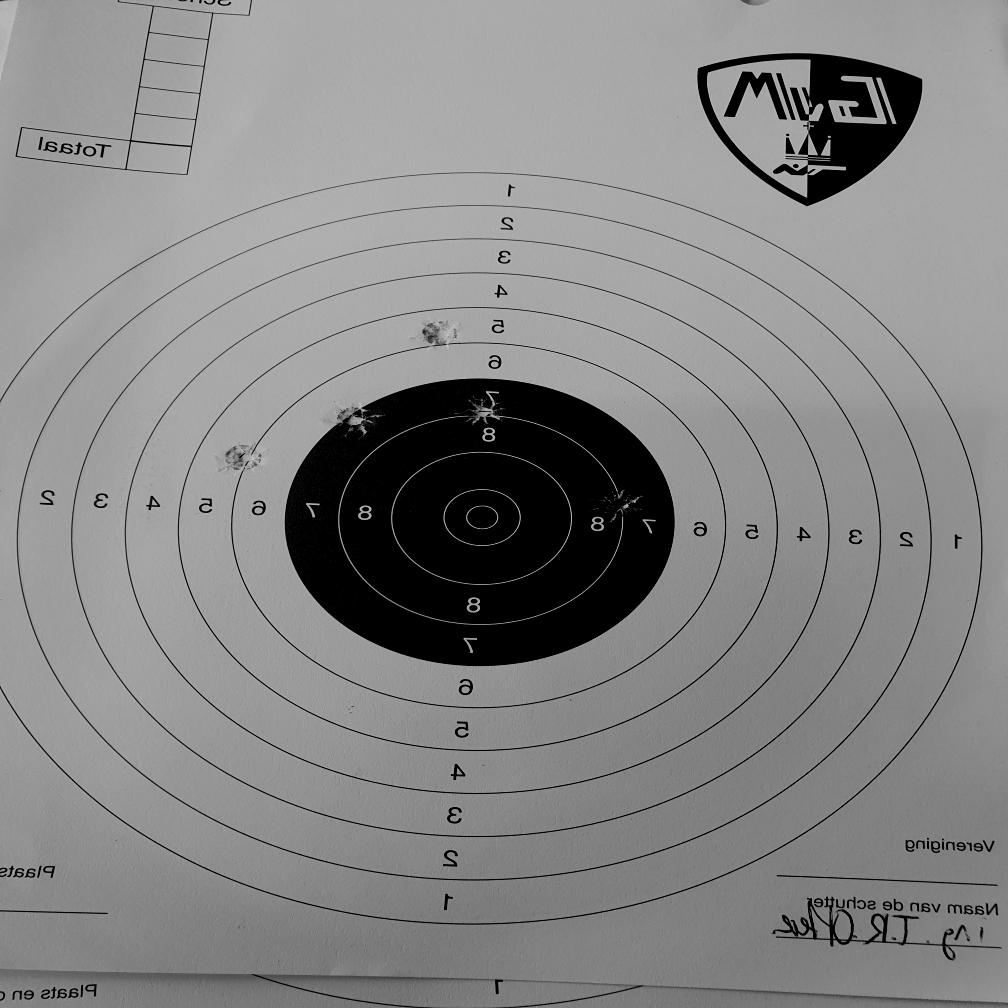6: (413, 318, 463, 352), (218, 442, 268, 474)
7: (332, 404, 380, 440)
8: (592, 483, 646, 524), (465, 394, 508, 424)
Target: (0, 170, 985, 926)
black_contour: (286, 378, 675, 668)
